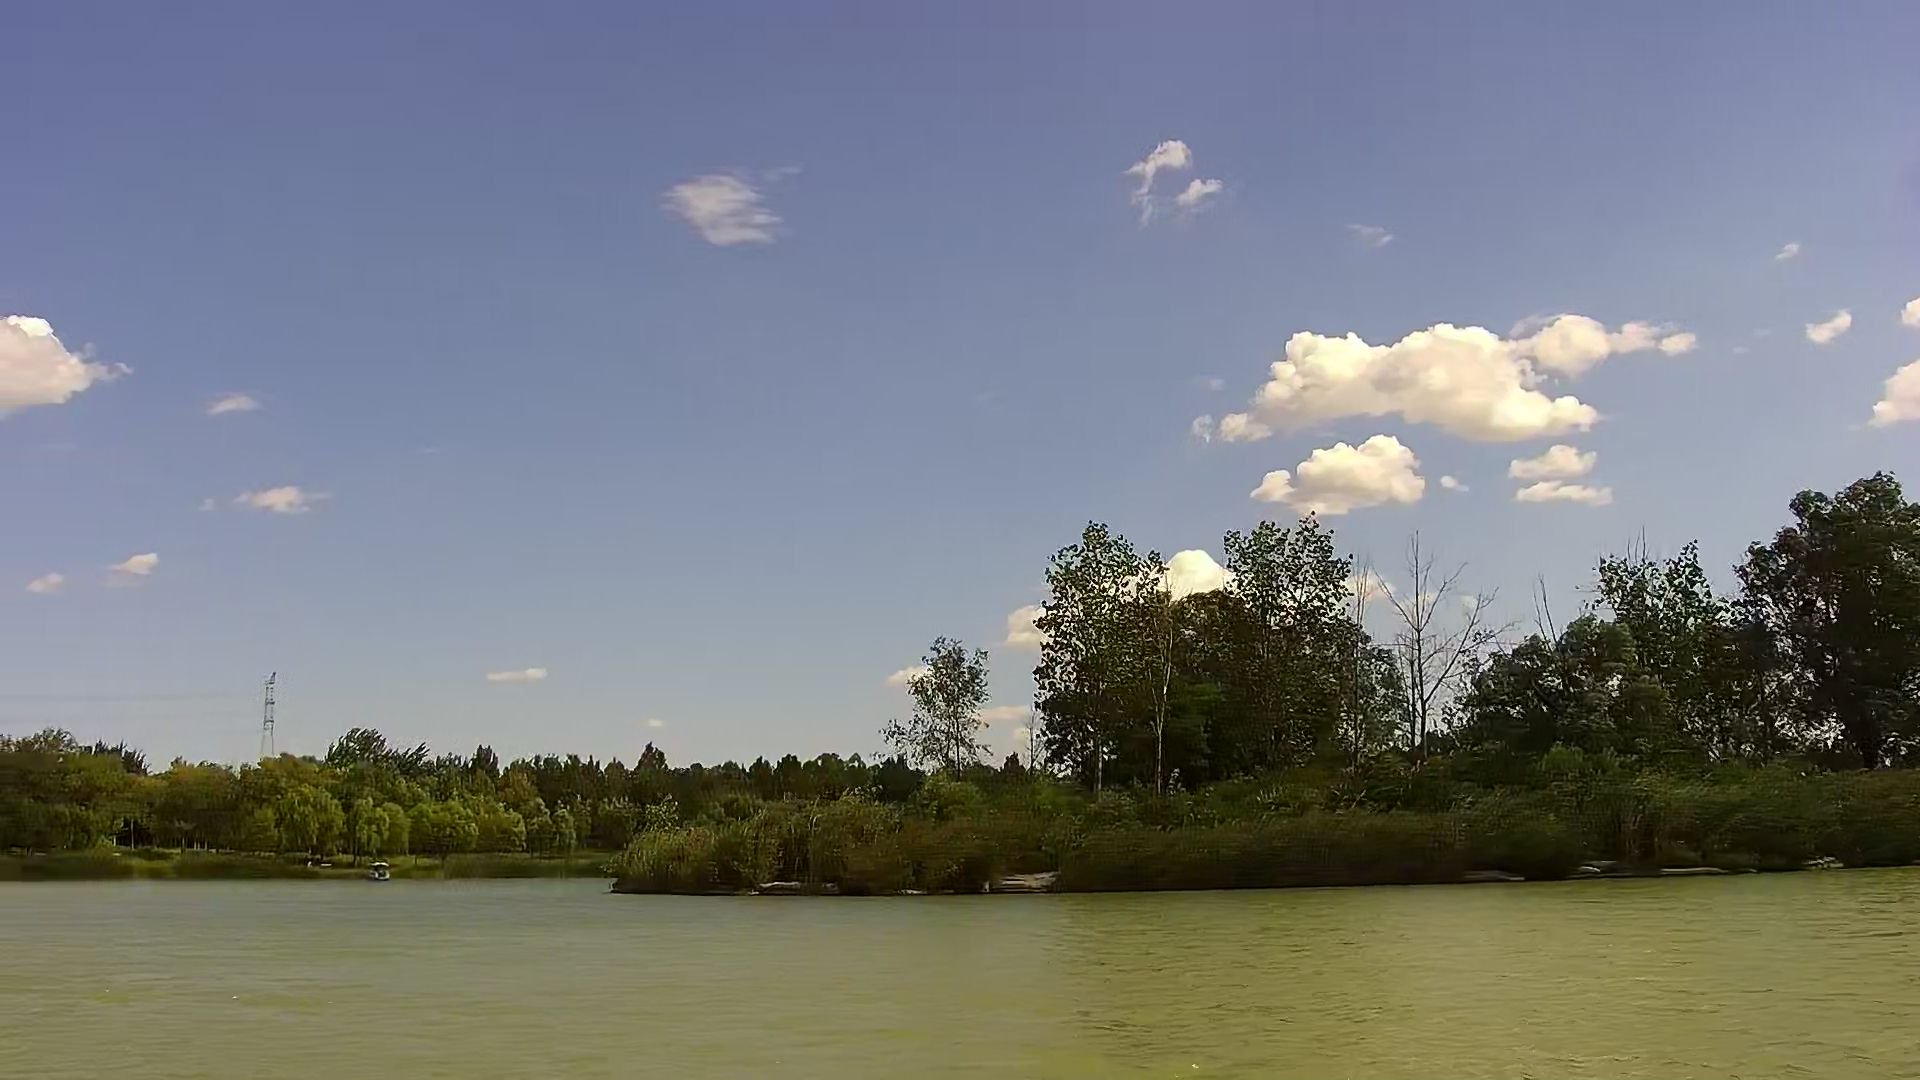rock: (981, 868, 1055, 891), (754, 876, 820, 891)
